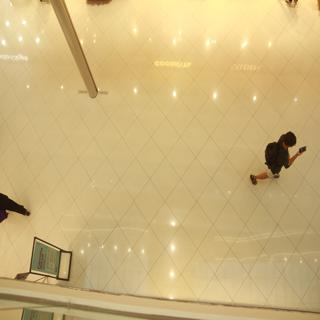person: (249, 116, 312, 197)
